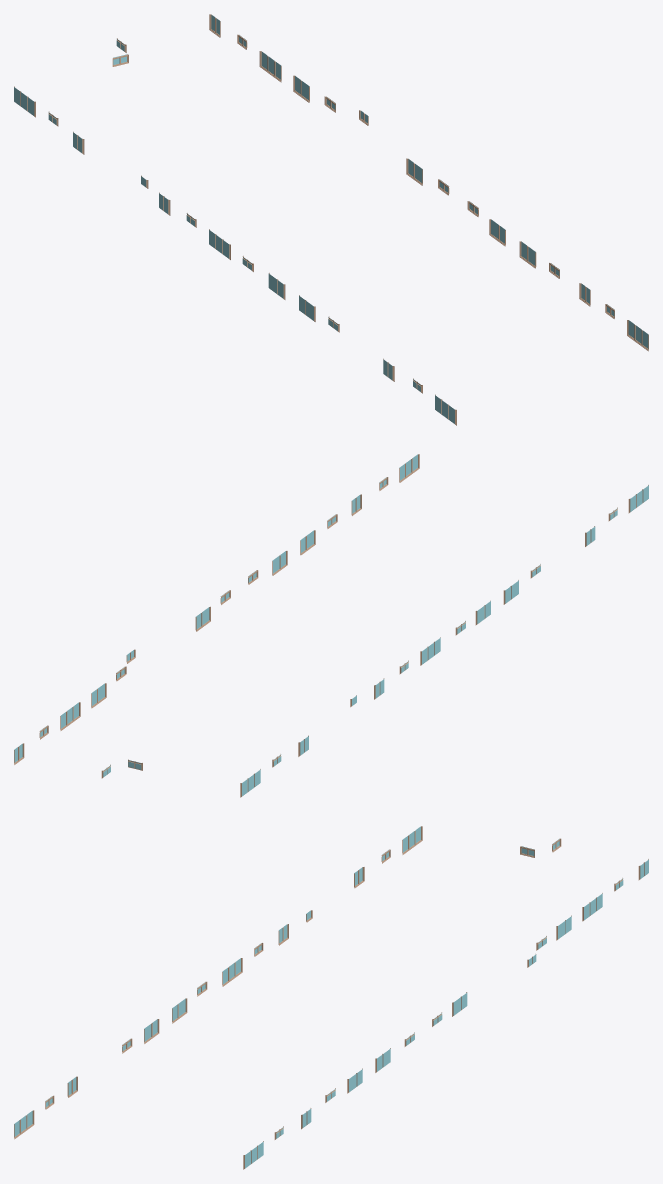
File: In_window_all.fbx
3 renders of one model, top to bottom at view 1: azimuth 30°, elevation 25°; view 2: azimuth 150°, elevation 25°; view 3: azimuth 330°, elevation 25°, orthographic. The views are drawn at different scales.
Parts seen in each view (by area): view 1: In_window_all; view 2: In_window_all; view 3: In_window_all.
Part boxes in pixels (<box>): In_window_all: <box>14,14,648,425</box>; In_window_all: <box>14,454,648,797</box>; In_window_all: <box>14,826,648,1169</box>.
Bounding box in the file's own units: 2041 × 130 × 6935.
